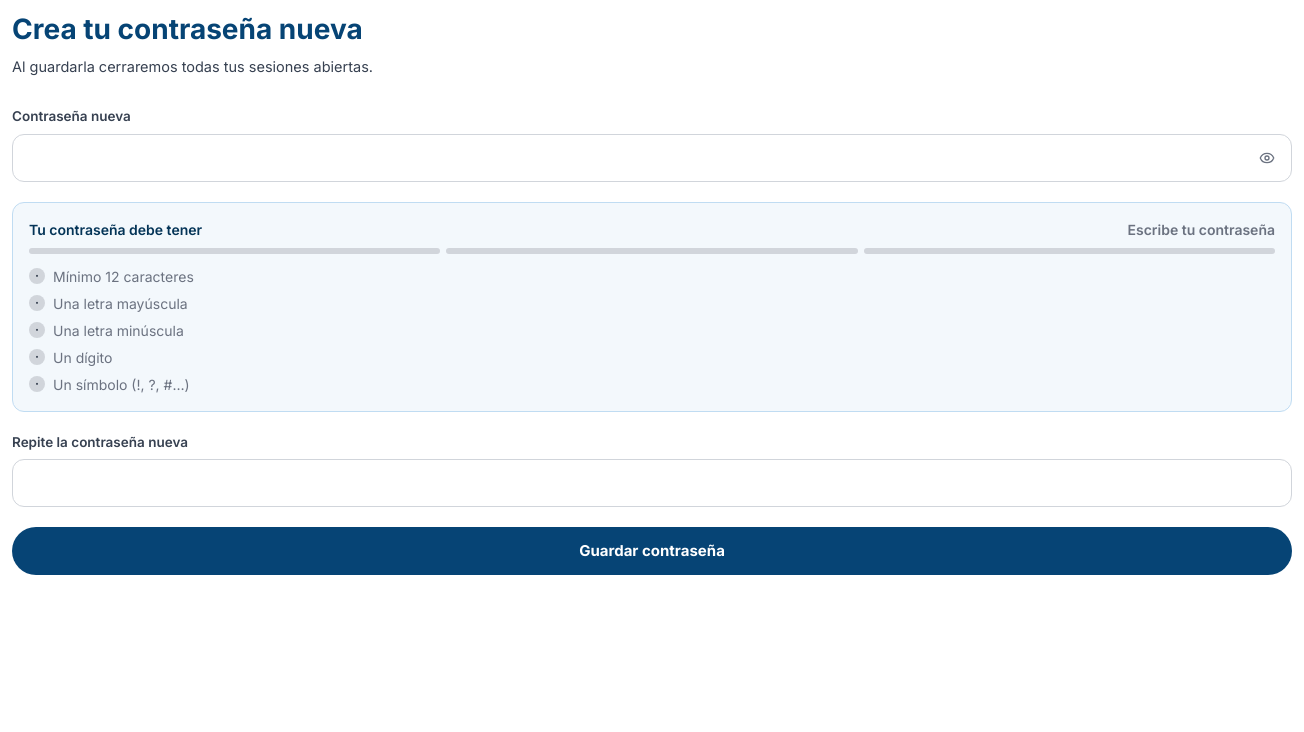
Test: FormularioDeContrasenaNueva › guarda la contraseña y avisa que el segundo factor sigue siendo necesario
Check: the heading "Crea tu contraseña nueva" is shown, box [12, 12, 363, 46]
Type "Nueva!Clave2026#" into the password field labelled "Contraseña nueva". click: (628, 158)
box: [13, 146, 1243, 170]
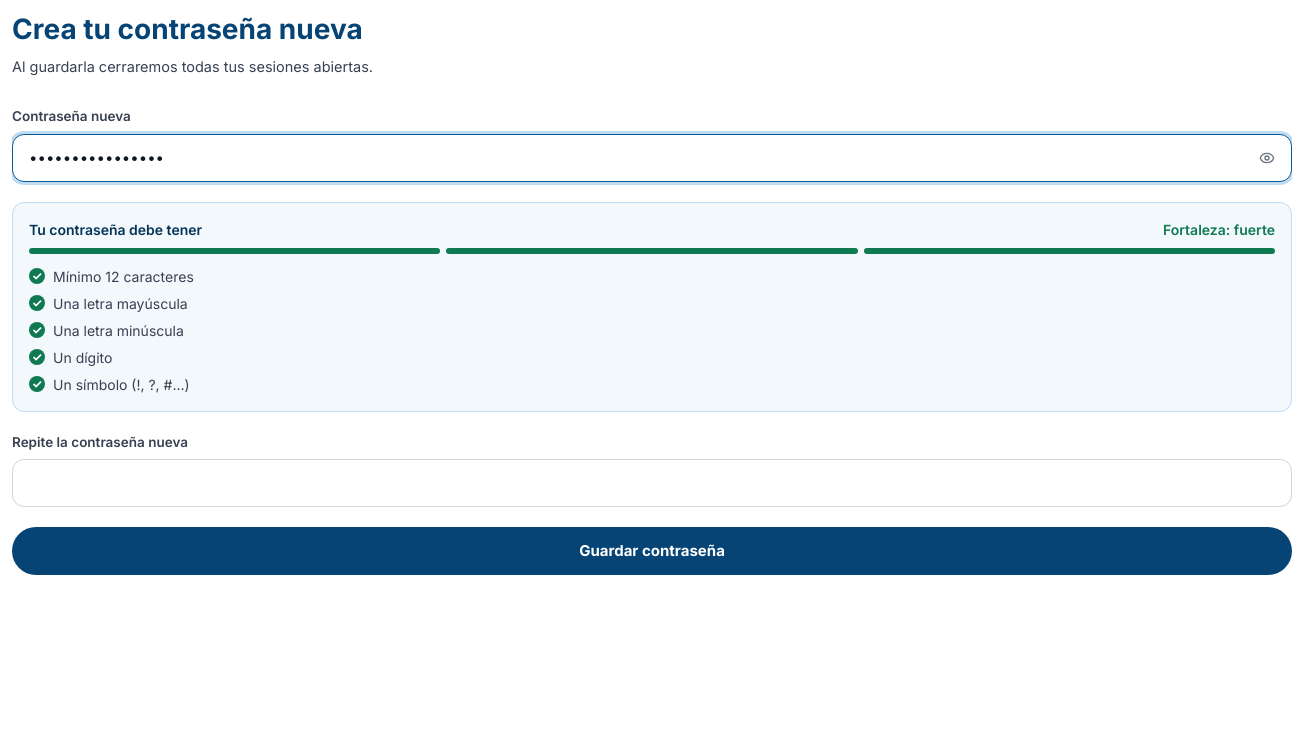
Type "Nueva!Clave2026#" into the password field labelled "Repite la contraseña nueva". click: (652, 483)
box: [13, 471, 1291, 495]
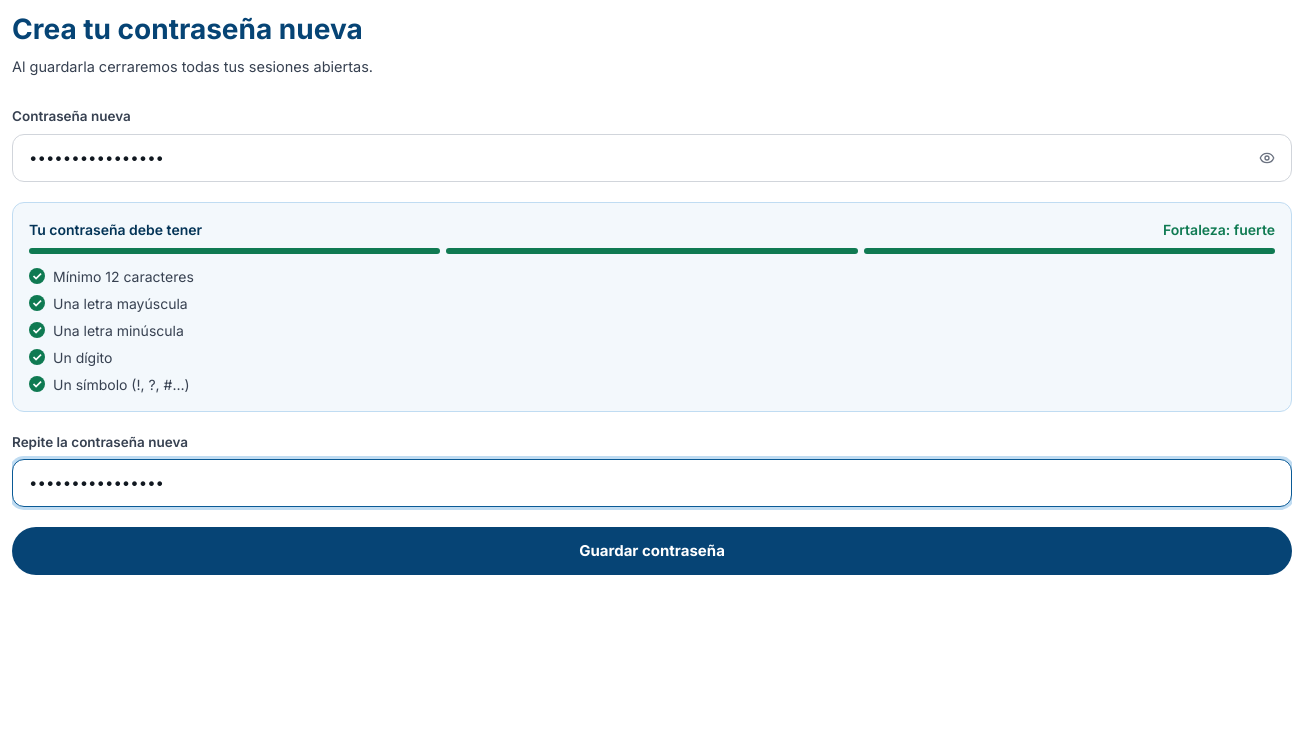
Click the button "Guardar contraseña". click: (652, 551)
box: [12, 527, 1292, 575]
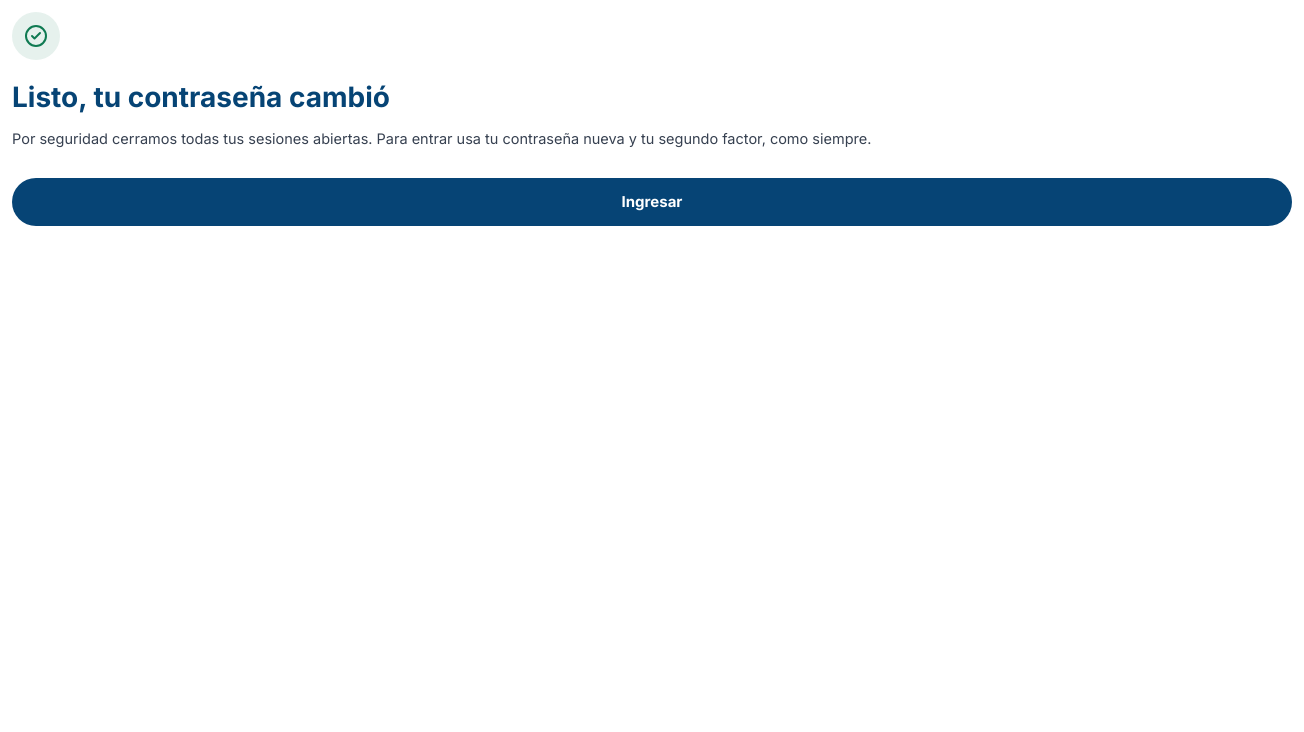
Check: the heading "Listo, tu contraseña cambió" is shown, box [12, 80, 390, 114]
Check: the message shows "segundo factor", box [12, 130, 871, 147]
